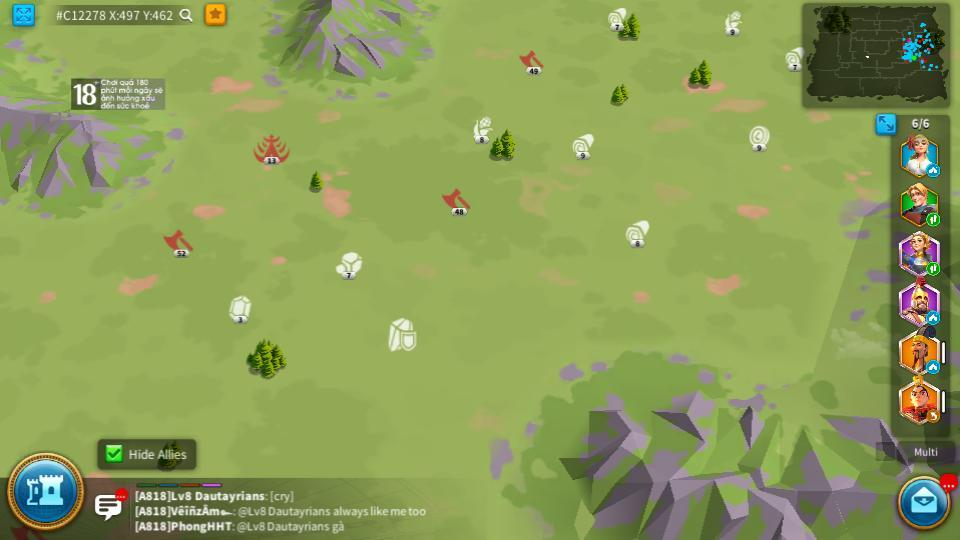gem-z-out: (227, 296, 252, 323)
march_idle: (927, 312, 940, 324), (927, 165, 941, 176), (927, 362, 940, 373)
march_marching: (925, 263, 938, 274), (927, 216, 940, 227)
march_returning: (926, 411, 940, 422)
